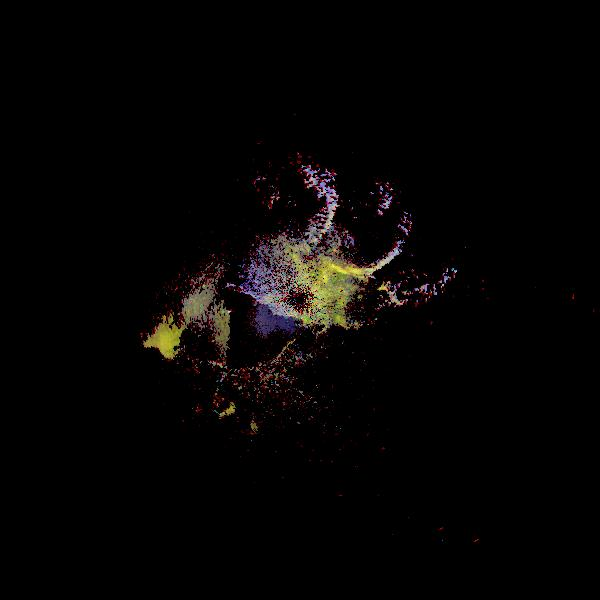roost: (293, 158, 428, 293), (225, 141, 354, 270), (95, 304, 185, 394)
